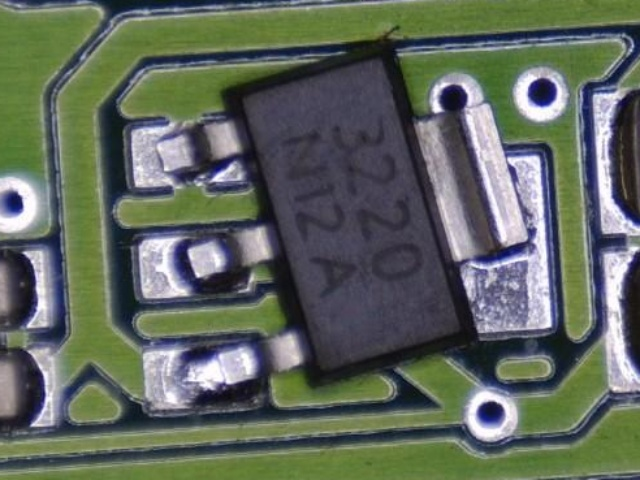pcb_defect: (129, 42, 555, 414), (412, 72, 552, 333)
